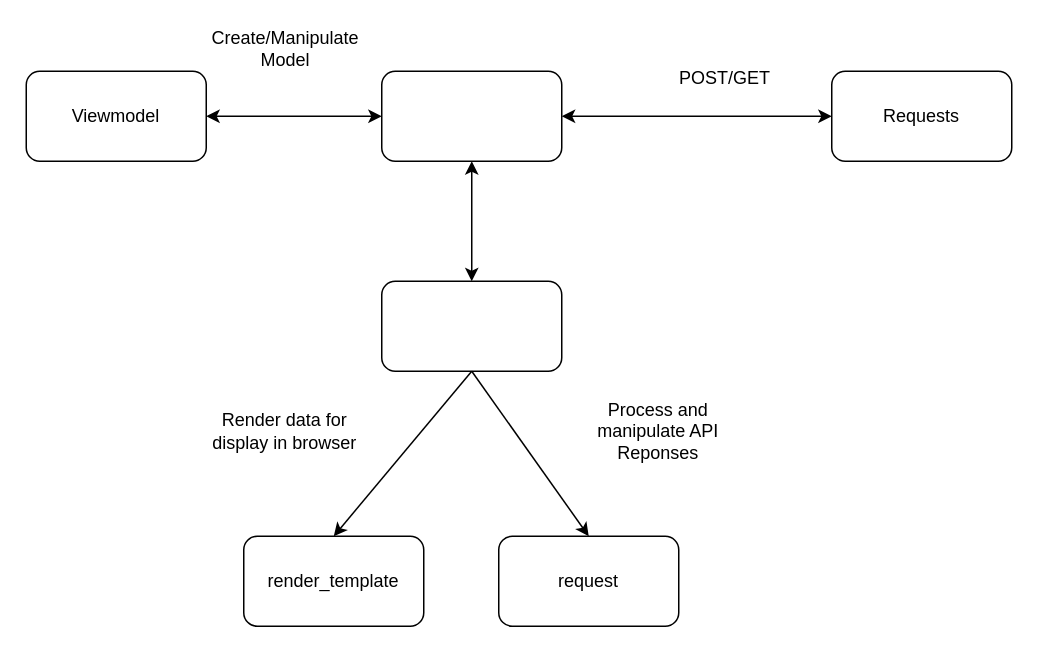
Some shapes in this 1038 by 653 pixel diagram are drawn without their labels. The centre of each missing label's shape, as x and y in pixels:
"Flask Framework" goes at point 471,325.
"Main Application Class" goes at point 471,115.
